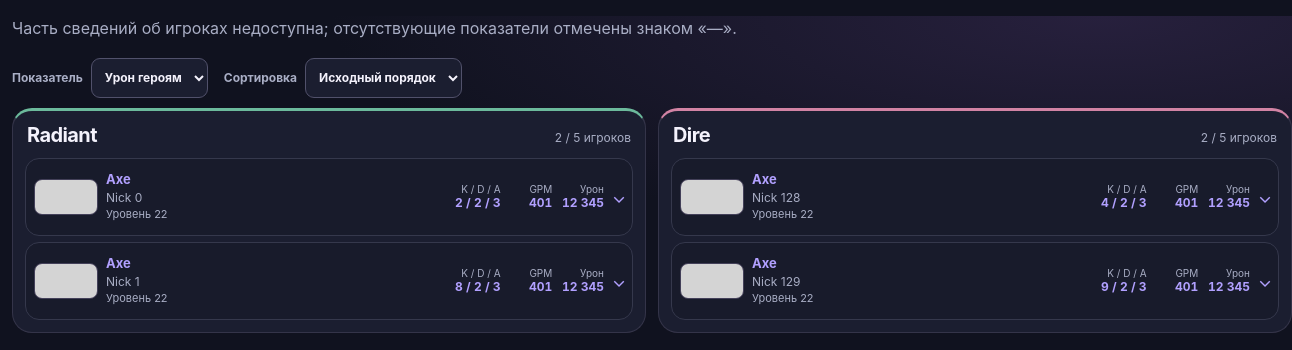
Test: changes one metric for both teams and sorts within each side without mutating API data
Select "Net Worth" in the dropdown labelled "Показатель" at (149, 78), box [91,58,208,98]
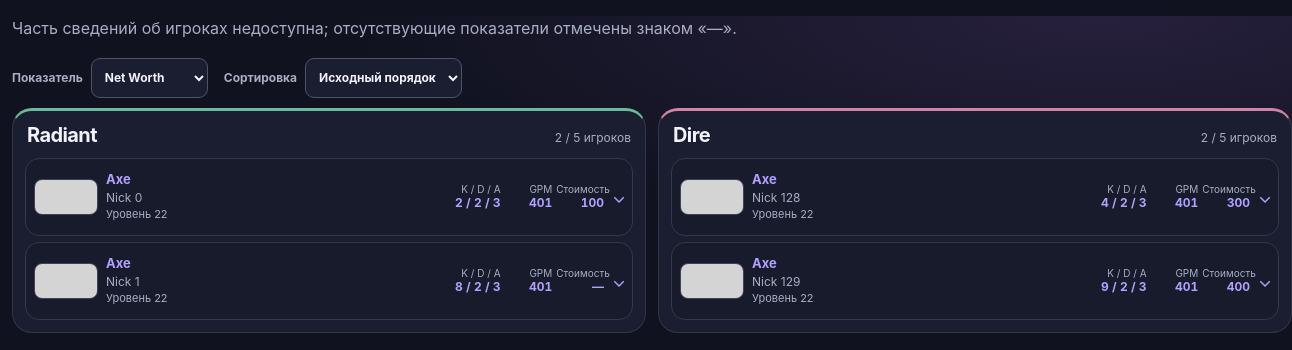
Select "Убийства" in the dropdown labelled "Сортировка" at (384, 78), box [305,58,462,98]
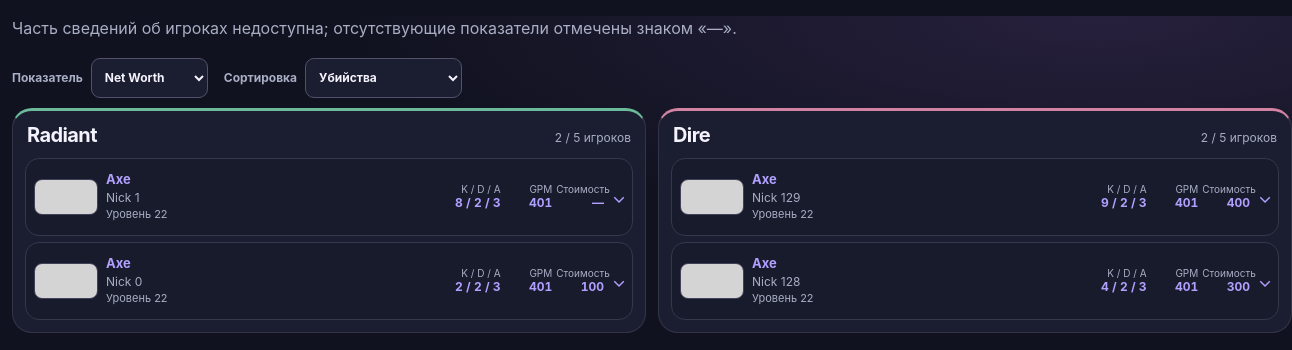
Expected: the text "Nick 1" is shown, [106,190,140,205]
Expected: the text "Nick 129" is shown, [752,190,800,205]
Select "Net Worth" in the dropdown labelled "Сортировка" at (384, 78), box [305,58,462,98]
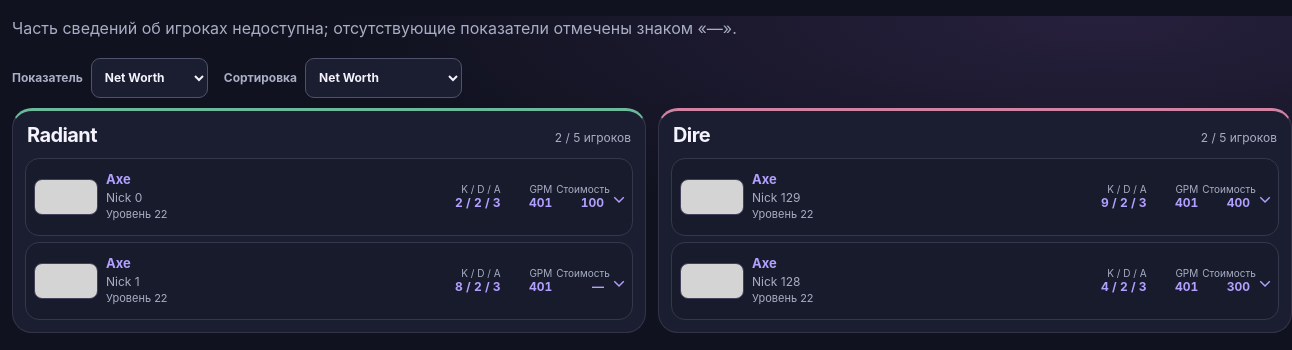
Expected: the text "Nick 0" is shown, [106,190,142,205]
